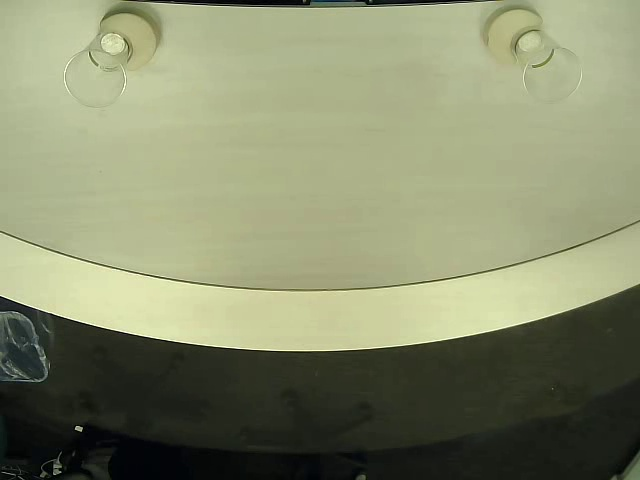Cup: (62, 31, 135, 112), (513, 27, 586, 105)
Deliver: (99, 6, 161, 73), (481, 5, 543, 67)
